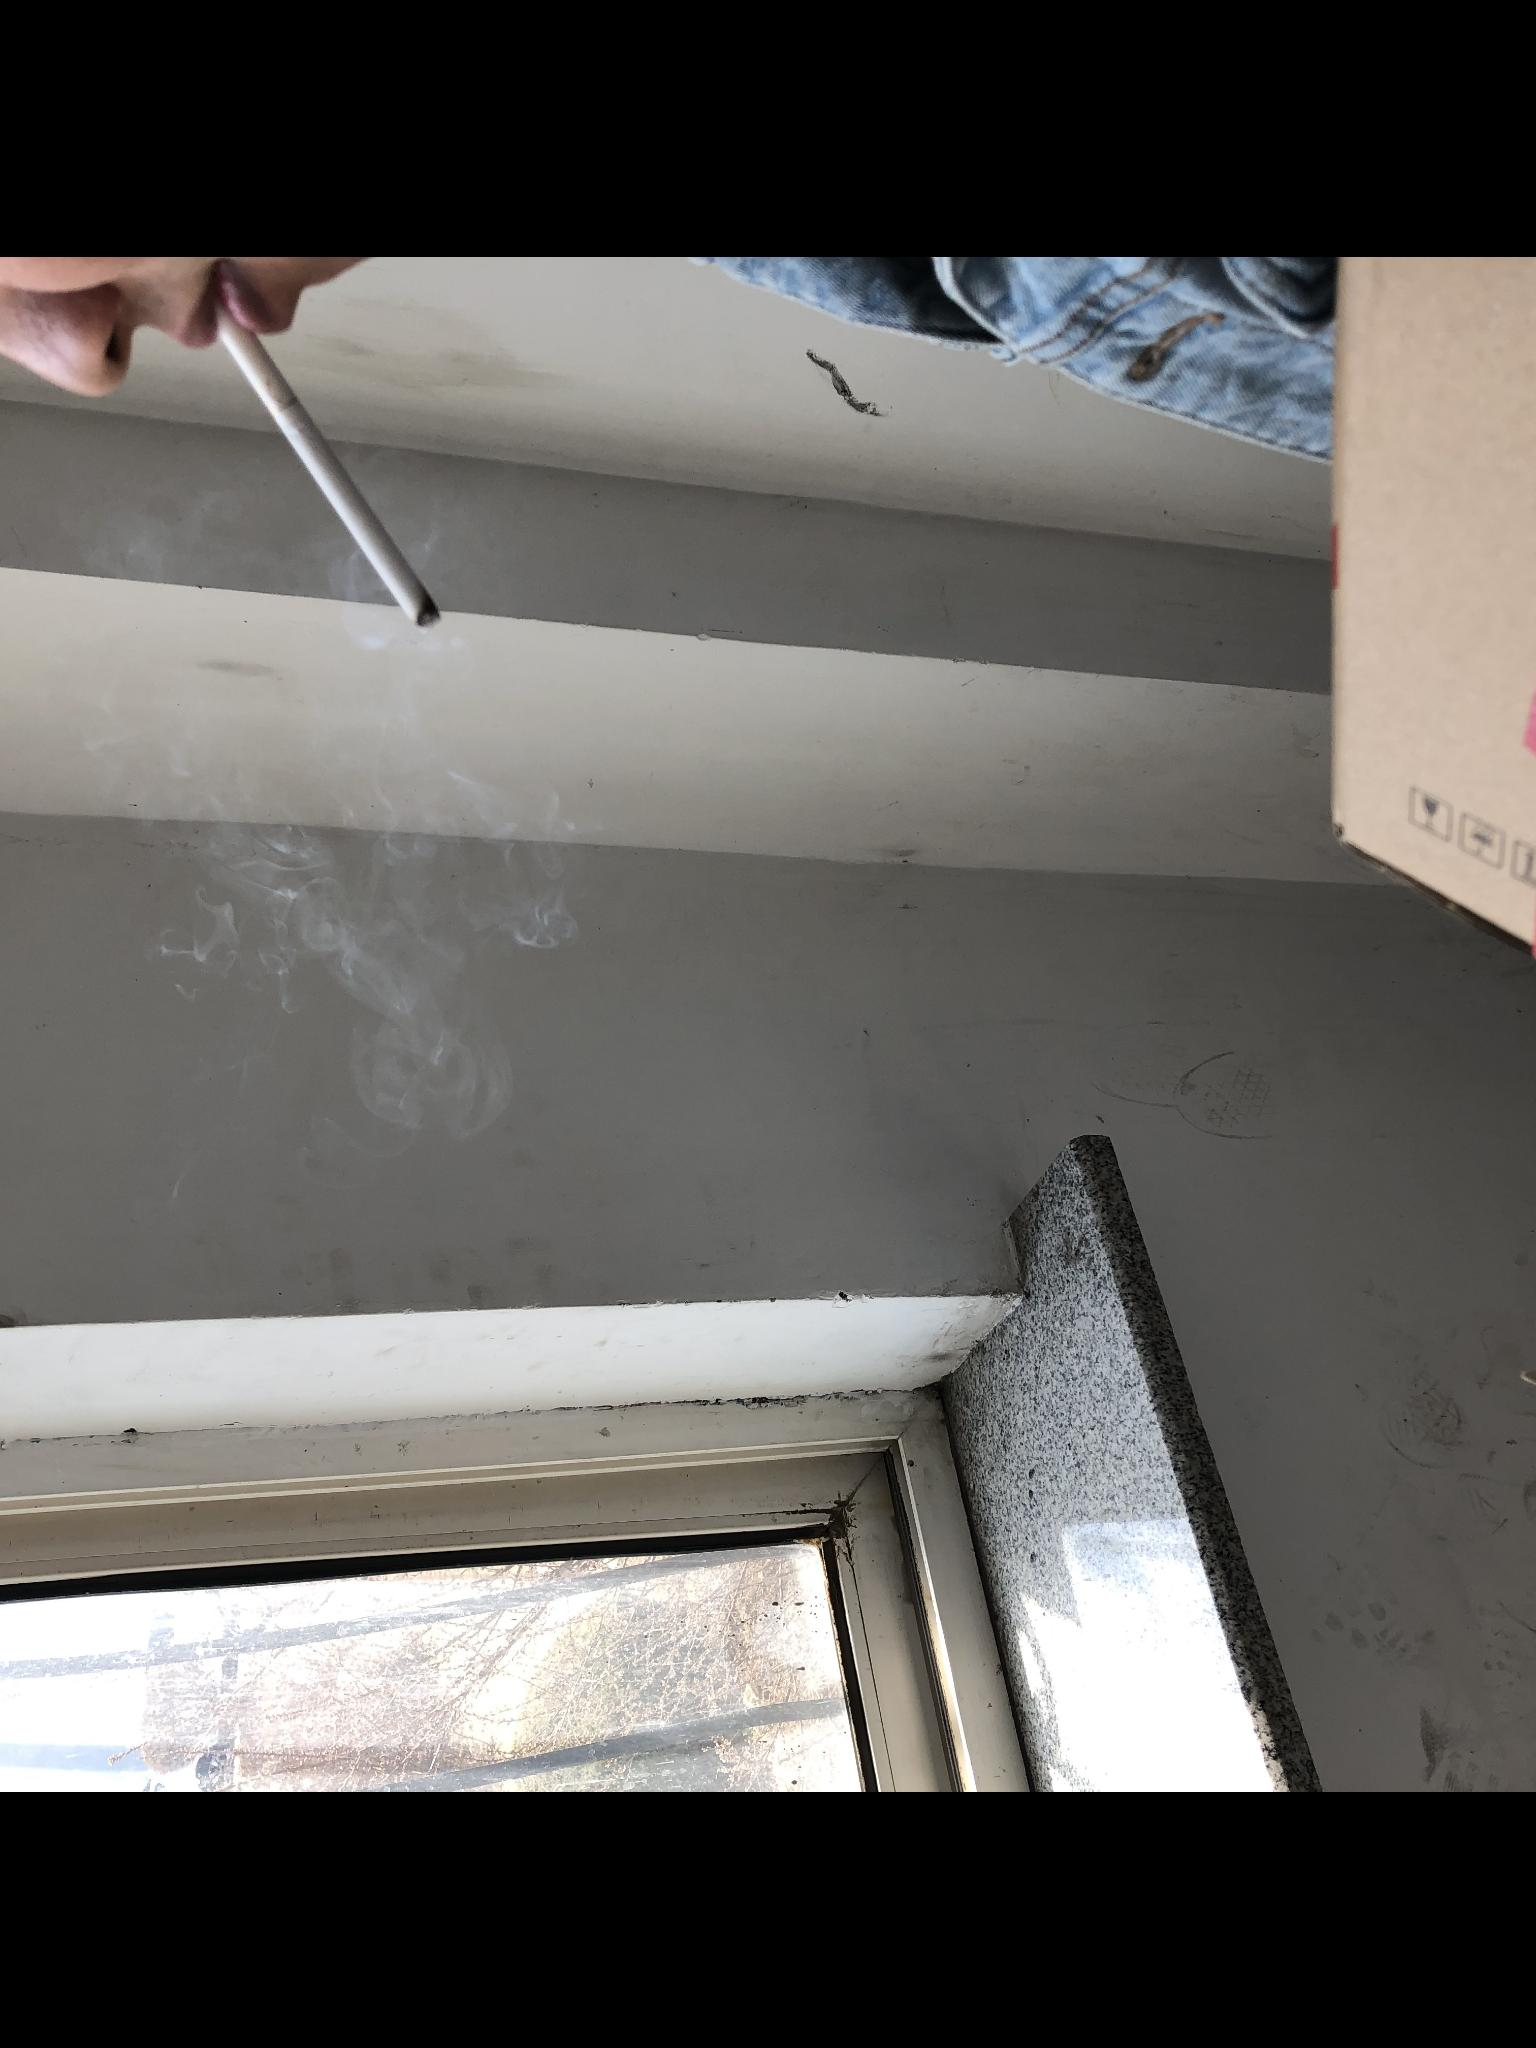Cigarette: (207, 303, 432, 637)
